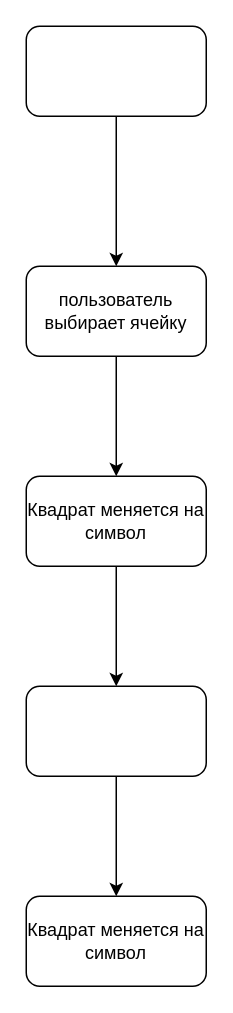
Image size: 233x1013. Some labels were removed from this diagram. The shapes that lost their labels are listed below. From the top down, each one's centre as x and y in pixels, then its label:
At pixel 115 70: "ходит крЕСТИК, ВЫБЕРИТЕ ЯЧЕЙКУ".
At pixel 115 730: "Второй пользователь выбирает ячейку.".
